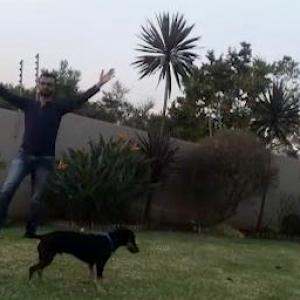takeoff: (0, 70, 107, 212)
